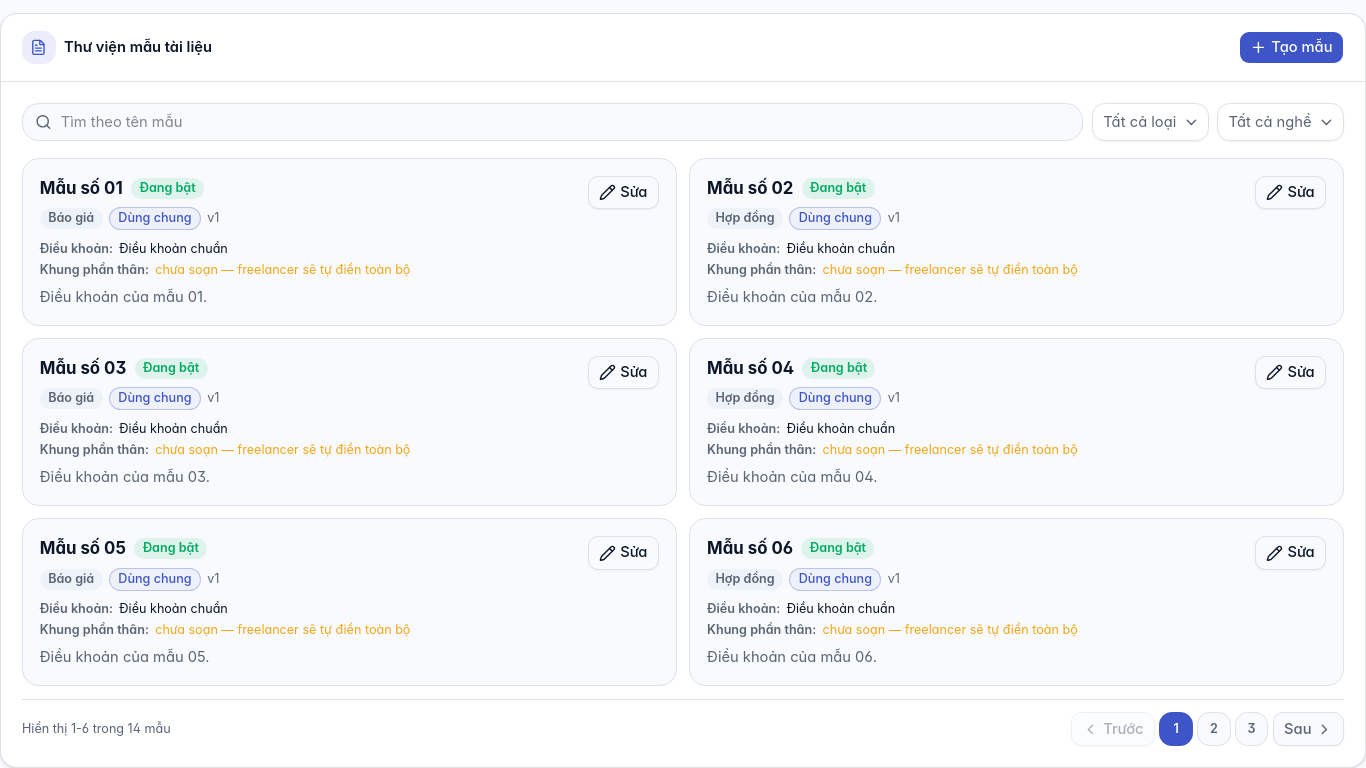
Test case: <AdminTemplatesPage /> — phân trang › sang trang 2 thì hiện mẫu 7-12 và bỏ các mẫu trang 1
The width and height of the screenshot is (1366, 768).
(page scrolled)
Click the button named "Trang 2" at (1214, 729), box [1197, 712, 1231, 746]
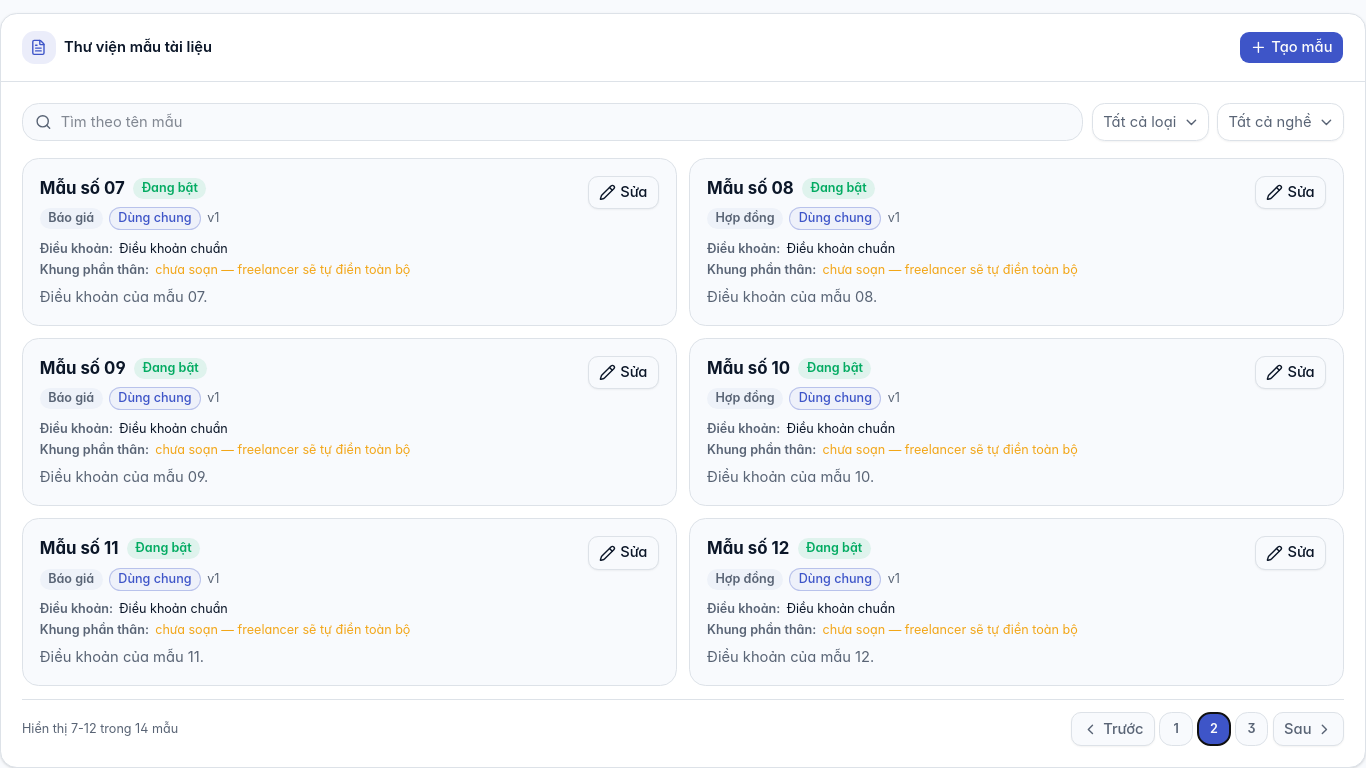
expect the text "Hiển thị 7-12 trong 14 mẫu" is shown: met, box [22, 721, 178, 738]
